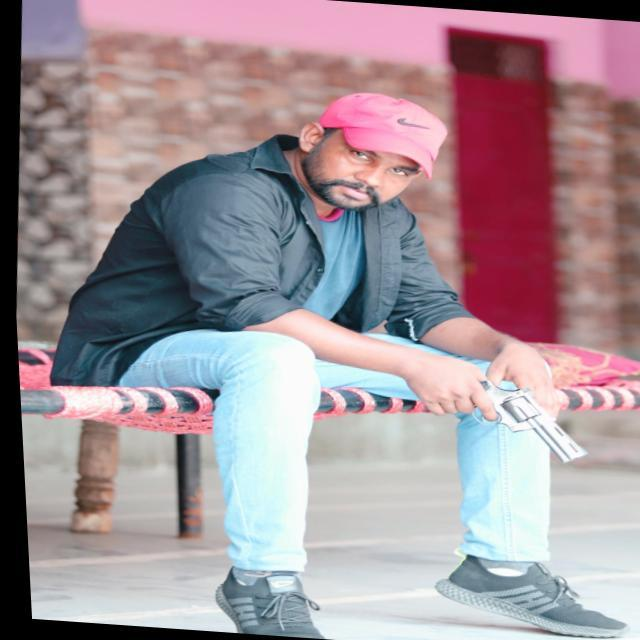weapon: (418, 372, 594, 468)
